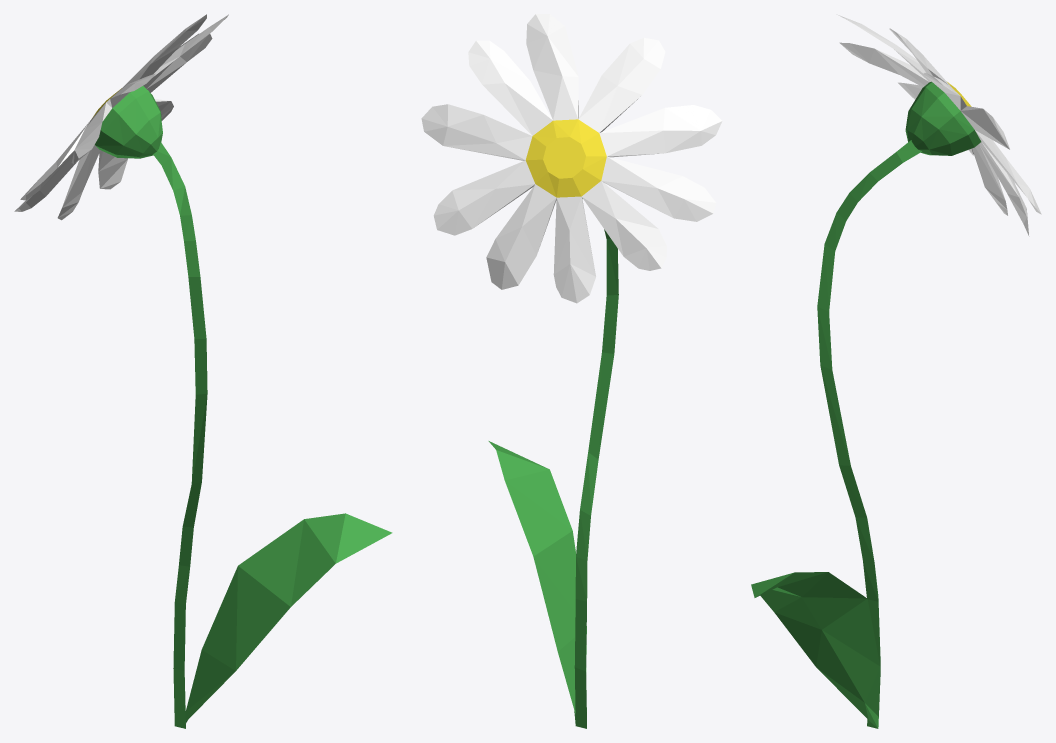
File: Flower.glb
3 views of the same model, side by side, from view 1: azimuth 30°, elevation 25°; view 2: azimuth 150°, elevation 25°; view 3: azimuth 270°, elevation 25° (orthographic). The views are drawn at different scales.
Visible parts, largest first — view 1: group1291483580, group790836088, group2033663355; view 2: group790836088, group1291483580, group2033663355; view 3: group1291483580, group790836088, group2033663355.
Boxes of the visible parts, left/top/right/bottom form: group1291483580: left=185, top=513, right=392, bottom=722; group790836088: left=14, top=14, right=228, bottom=220; group2033663355: left=153, top=142, right=207, bottom=728; group790836088: left=421, top=14, right=722, bottom=303; group1291483580: left=488, top=441, right=586, bottom=723; group2033663355: left=574, top=229, right=618, bottom=728; group1291483580: left=751, top=572, right=880, bottom=728; group790836088: left=836, top=14, right=1041, bottom=236; group2033663355: left=817, top=140, right=921, bottom=728.
Bounding box in the file's own units: 1.62 × 3.62 × 1.34.
